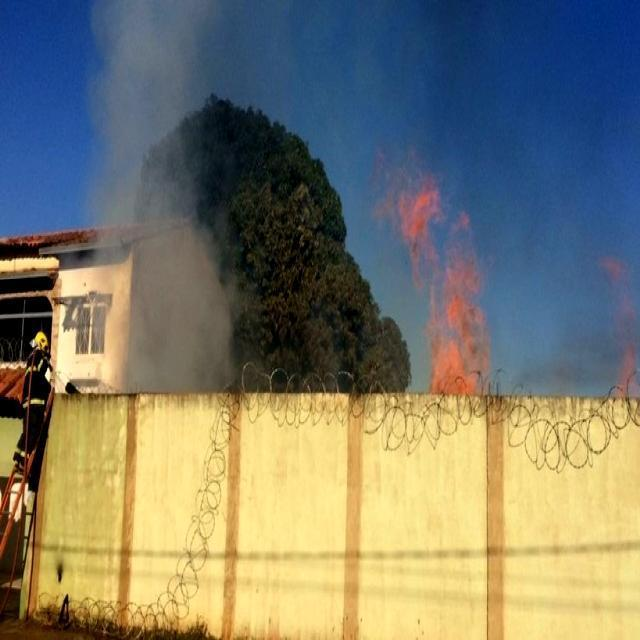Fire: (404, 174, 491, 406)
Smoke: (80, 0, 248, 396)
